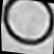no answer: (0, 0, 54, 47)
